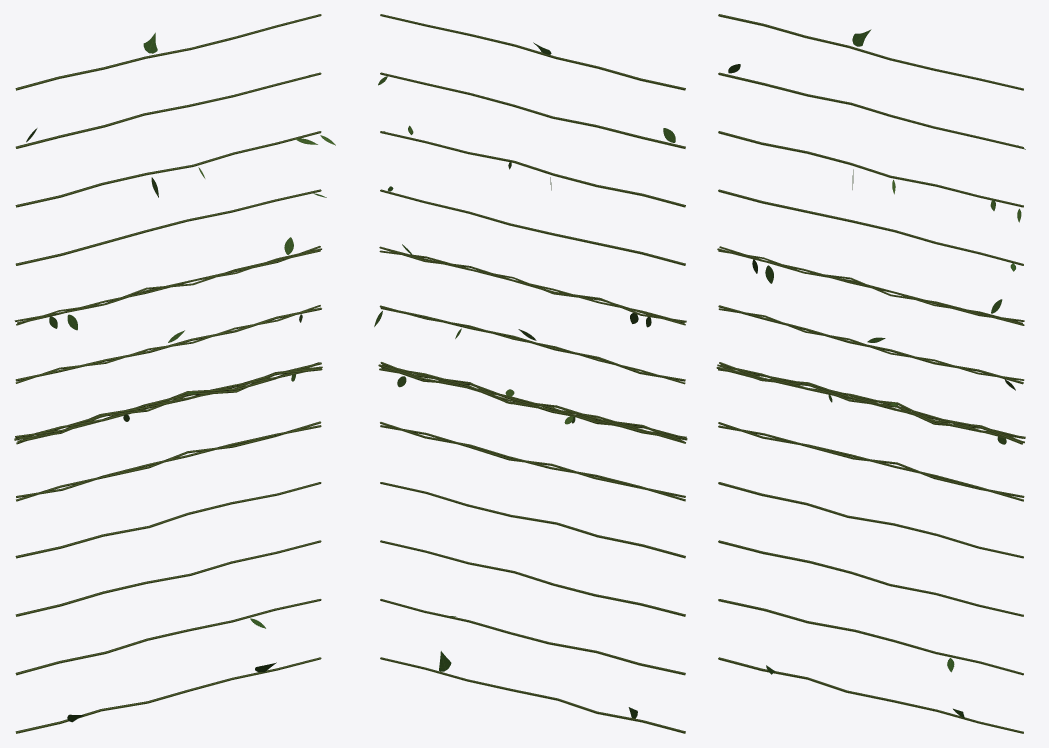
The model's file is liana_kit_09_lod2.gltf.
3 renders of one model, left to right at view 1: azimuth 30°, elevation 25°; view 2: azimuth 150°, elevation 25°; view 3: azimuth 330°, elevation 25°, orthographic.
Visible parts, largest first — view 1: liana_kit_09; view 2: liana_kit_09; view 3: liana_kit_09.
Part boxes in pixels (x1,y1,x2,y2): liana_kit_09: (14,14,335,733); liana_kit_09: (374,14,687,733); liana_kit_09: (716,14,1025,733).
Size of the model in its own units: 3.11 by 6.27 by 0.417.
2 materials, 2 textured.
